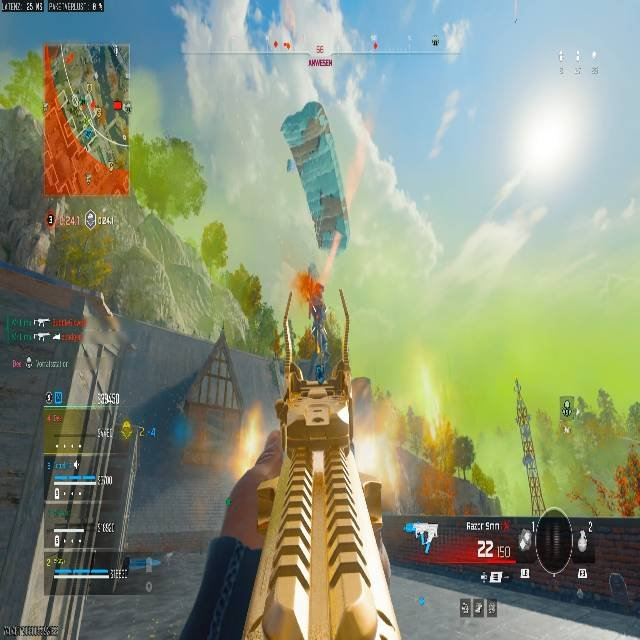player: (315, 363, 324, 383)
